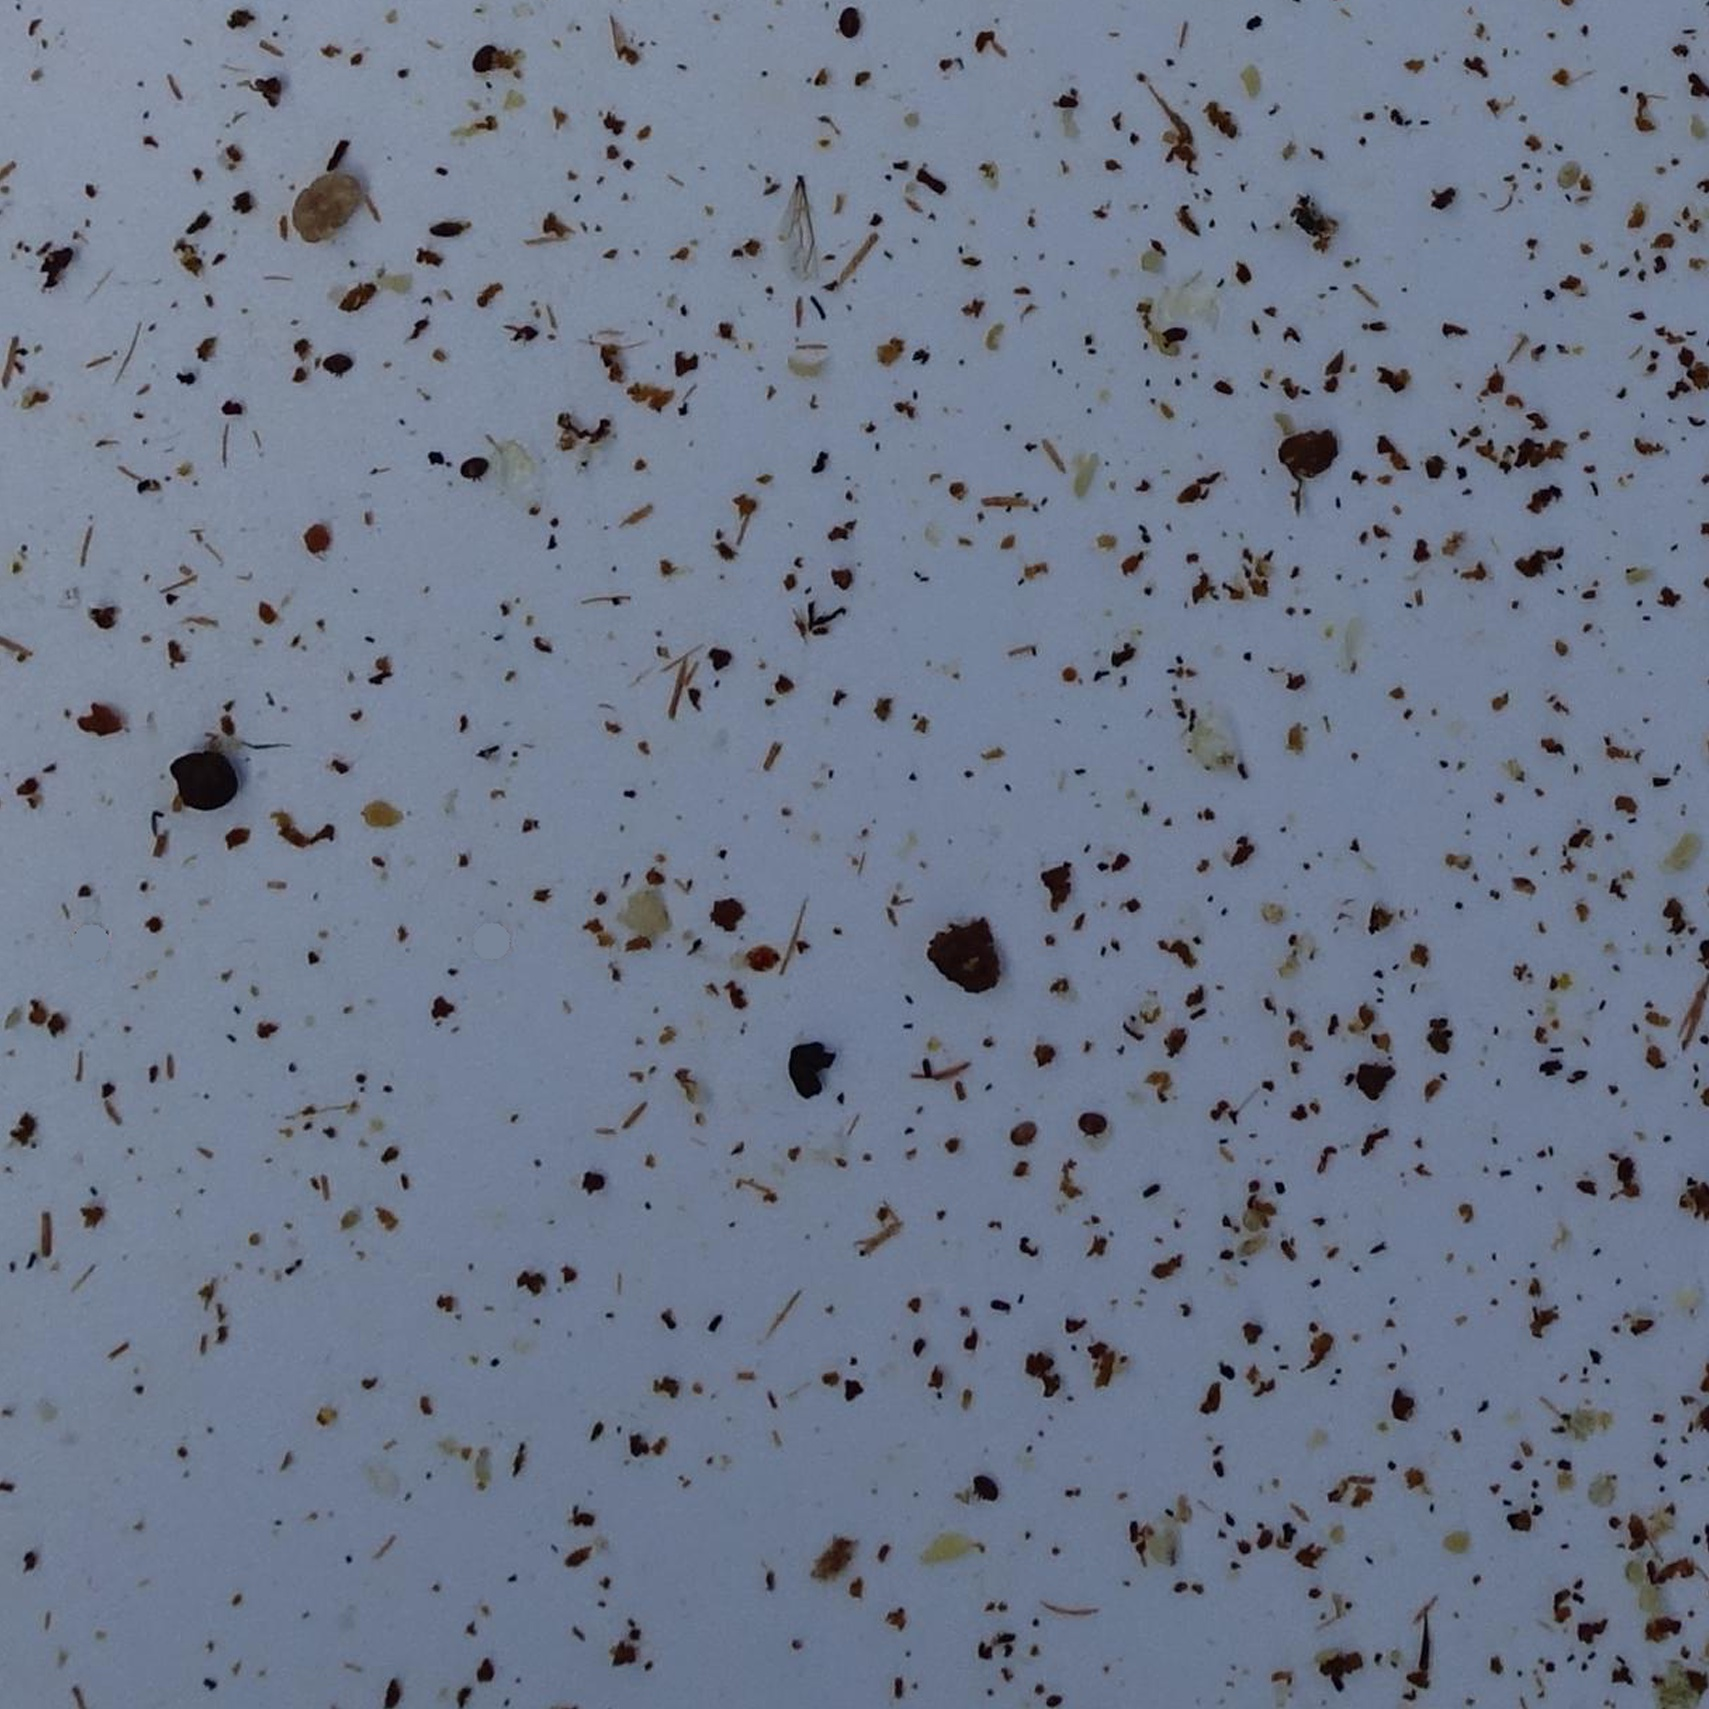Varroa: (1413, 444, 1457, 488), (1606, 1149, 1650, 1193), (455, 444, 495, 485), (829, 5, 867, 41), (1006, 1114, 1042, 1152), (473, 44, 507, 81), (1074, 1111, 1110, 1144), (315, 344, 344, 379), (973, 1470, 1005, 1501)
